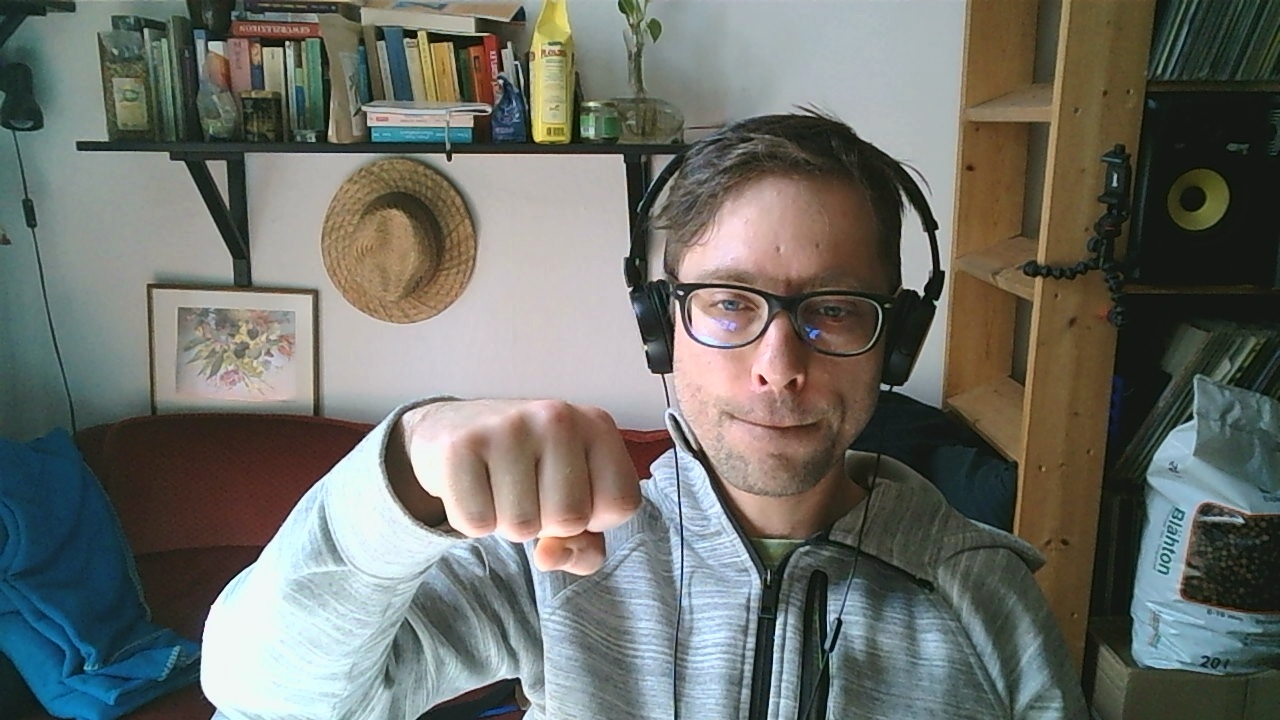yes: (411, 395, 646, 576)
